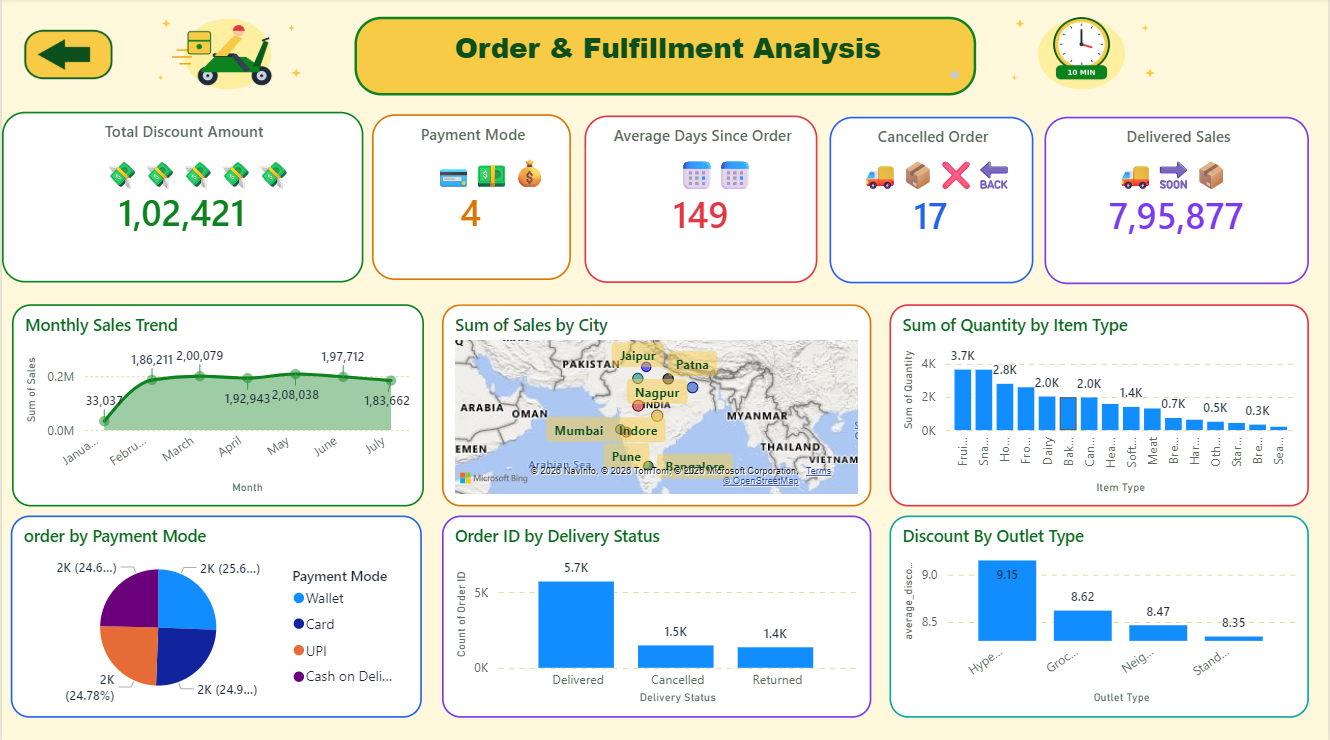

Layout of this report page (visuals, bound fields, positions):
{"tool":"powerbi","page":{"name":"Order & Fulfillment Analysis","canvas":[1280,720],"ordinal":6},"visuals":[{"type":"textbox","title":"Order & Fulfillment Analysis","box":[340,18,600,76],"z":0},{"type":"image","box":[122,2,192,100],"z":1000},{"type":"image","box":[946,2,192,100],"z":2000},{"type":"cardVisual","title":"Total Discount Amount","fields":{"Data":["blinkit_data_master.Total_Discount_Amount"]},"box":[0,110.1,348.5,165.1],"z":3000},{"type":"cardVisual","title":"Payment Mode","fields":{"Data":["blinkit_data_master.payment_mode_count"]},"box":[357.1,112.5,192,160.2],"z":4000},{"type":"cardVisual","title":"Average Days Since Order","fields":{"Data":["blinkit_data_master.Average_Days_Since_Order"]},"box":[562.5,113.7,225,161.4],"z":5000},{"type":"cardVisual","title":"Cancelled Order","fields":{"Data":["blinkit_data_master.Cancelled_Order_Rate_%"]},"box":[798.7,115.2,196.8,160.5],"z":6000},{"type":"cardVisual","title":"Delivered Sales","fields":{"Data":["blinkit_data_master.Delivered_Sales"]},"box":[1006.4,114.9,255.6,161.4],"z":7000},{"type":"lineChart","title":"Monthly Sales Trend","fields":{"Category":["blinkit_data_master.Order Date.Variation.Date Hierarchy.Month"],"Y":["Sum(blinkit_data_master.Sales)"]},"box":[9.1,295.1,397.4,195.5],"z":8000},{"type":"pieChart","title":"order by Payment Mode","fields":{"Y":["blinkit_data_master.Total_order"],"Category":["blinkit_data_master.Payment Mode"]},"box":[9,500,397,195],"z":9000},{"type":"map","fields":{"Category":["blinkit_data_master.City"],"Size":["Sum(blinkit_data_master.Sales)"]},"box":[424.6,295.1,414.2,195.5],"z":10000},{"type":"clusteredColumnChart","title":" Order ID by Delivery Status","fields":{"Category":["blinkit_data_master.Delivery Status"],"Y":["CountNonNull(blinkit_data_master.Order ID)"]},"box":[425,500,414,195],"z":11000},{"type":"clusteredColumnChart","fields":{"Category":["blinkit_data_master.Item Type"],"Y":["Sum(blinkit_data_master.Quantity)"]},"box":[857,295.1,405.2,195.5],"z":12000},{"type":"clusteredColumnChart","title":"Discount By Outlet Type","fields":{"Category":["blinkit_data_master.Outlet Type"],"Y":["blinkit_data_master.average_discount_%"]},"box":[857,500,405,195],"z":13000},{"type":"textbox","box":[22,146.7,335.1,110.1],"z":14000},{"type":"textbox","box":[370.5,144.3,204.2,50.1],"z":15000},{"type":"textbox","box":[539.3,146.7,299.6,55],"z":16000},{"type":"textbox","box":[809.5,146.7,185.9,55],"z":17000},{"type":"textbox","box":[980.7,146.7,299.6,47.7],"z":18000},{"type":"image","box":[12,22,104,66],"z":19000}]}

Visuals, with their boxes in screenshot pixels (x1, y1, x2, y2), scaled from the page's 1280x720 canvas onto the 1330x740 screenshot:
"Order & Fulfillment Analysis" textbox: crop(353, 18, 977, 97)
image: crop(127, 2, 326, 105)
image: crop(983, 2, 1182, 105)
"Total Discount Amount" cardVisual: crop(0, 113, 362, 283)
"Payment Mode" cardVisual: crop(371, 116, 571, 280)
"Average Days Since Order" cardVisual: crop(584, 117, 818, 283)
"Cancelled Order" cardVisual: crop(830, 118, 1034, 283)
"Delivered Sales" cardVisual: crop(1046, 118, 1311, 284)
"Monthly Sales Trend" lineChart: crop(9, 303, 422, 504)
"order by Payment Mode" pieChart: crop(9, 514, 422, 714)
map - blinkit_data_master.City x Sum(blinkit_data_master.Sales): crop(441, 303, 872, 504)
" Order ID by Delivery Status" clusteredColumnChart: crop(442, 514, 872, 714)
clusteredColumnChart - blinkit_data_master.Item Type x Sum(blinkit_data_master.Quantity): crop(890, 303, 1312, 504)
"Discount By Outlet Type" clusteredColumnChart: crop(890, 514, 1311, 714)
textbox: crop(23, 151, 371, 264)
textbox: crop(385, 148, 597, 200)
textbox: crop(560, 151, 872, 207)
textbox: crop(841, 151, 1034, 207)
textbox: crop(1019, 151, 1329, 200)
image: crop(12, 23, 121, 90)
